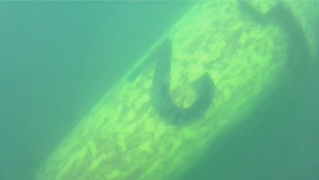2: (126, 37, 217, 126), (202, 122, 241, 159)
pipe: (32, 1, 319, 179)
